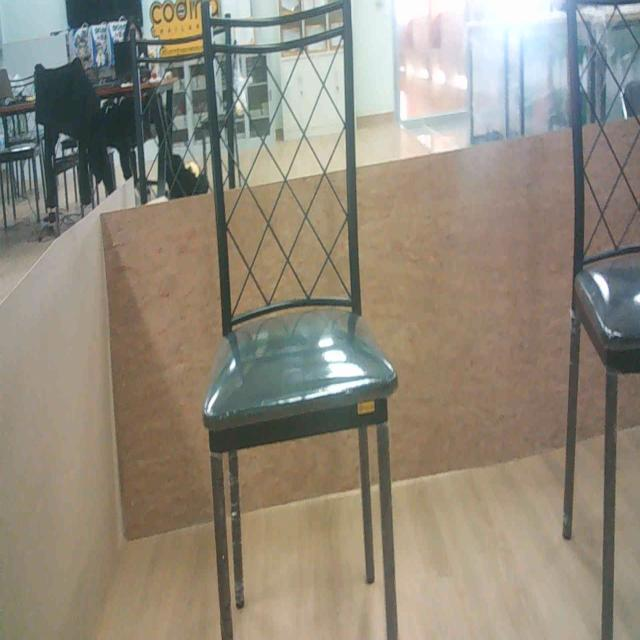emtpy: (203, 0, 403, 640)
